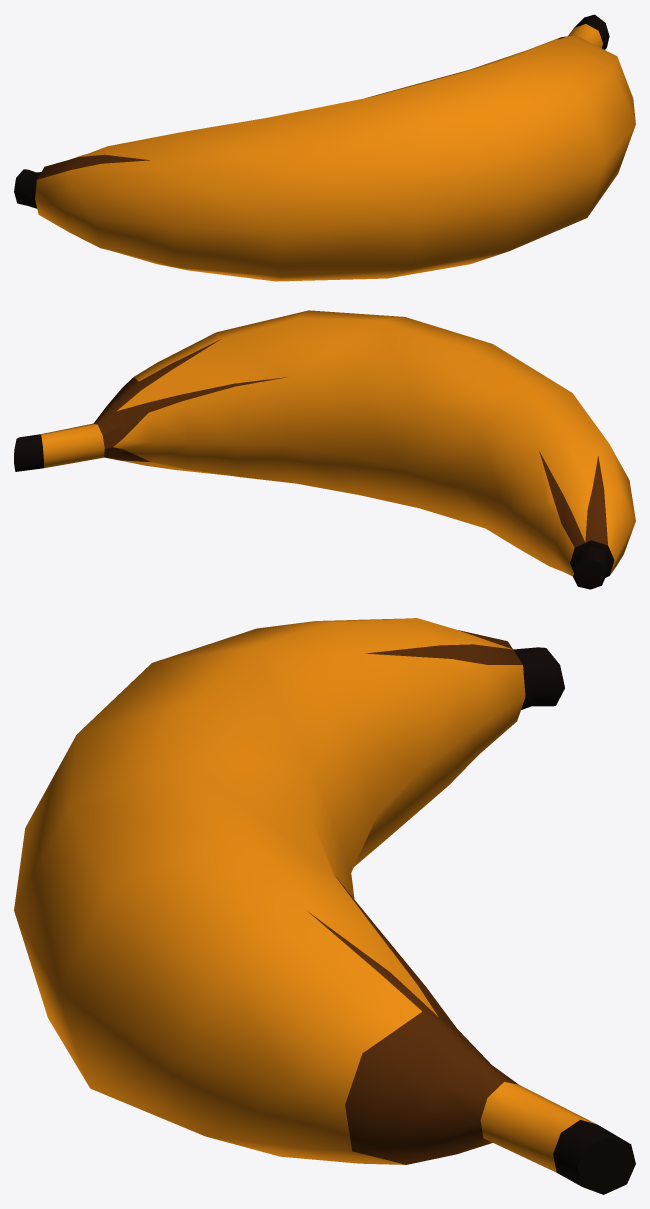
The model's file is BananaNewOne.fbx.
3 renders of one model, top to bottom at view 1: azimuth 30°, elevation 25°; view 2: azimuth 150°, elevation 25°; view 3: azimuth 270°, elevation 25°, orthographic. The views are drawn at different scales.
Visible parts, largest first — view 1: node_id11, node_id9, node_id7; view 2: node_id11, node_id7, node_id9; view 3: node_id11, node_id7, node_id9.
Boxes of the visible parts, left/top/right/bottom form: node_id11: left=35, top=24, right=635, bottom=281; node_id9: left=14, top=14, right=609, bottom=208; node_id7: left=37, top=36, right=567, bottom=179; node_id11: left=40, top=310, right=635, bottom=576; node_id7: left=93, top=339, right=607, bottom=547; node_id9: left=14, top=434, right=614, bottom=589; node_id11: left=14, top=618, right=596, bottom=1172; node_id7: left=308, top=630, right=522, bottom=1164; node_id9: left=513, top=647, right=635, bottom=1194.
Bounding box in the file's own units: 0.4558 × 0.1314 × 0.2404.
